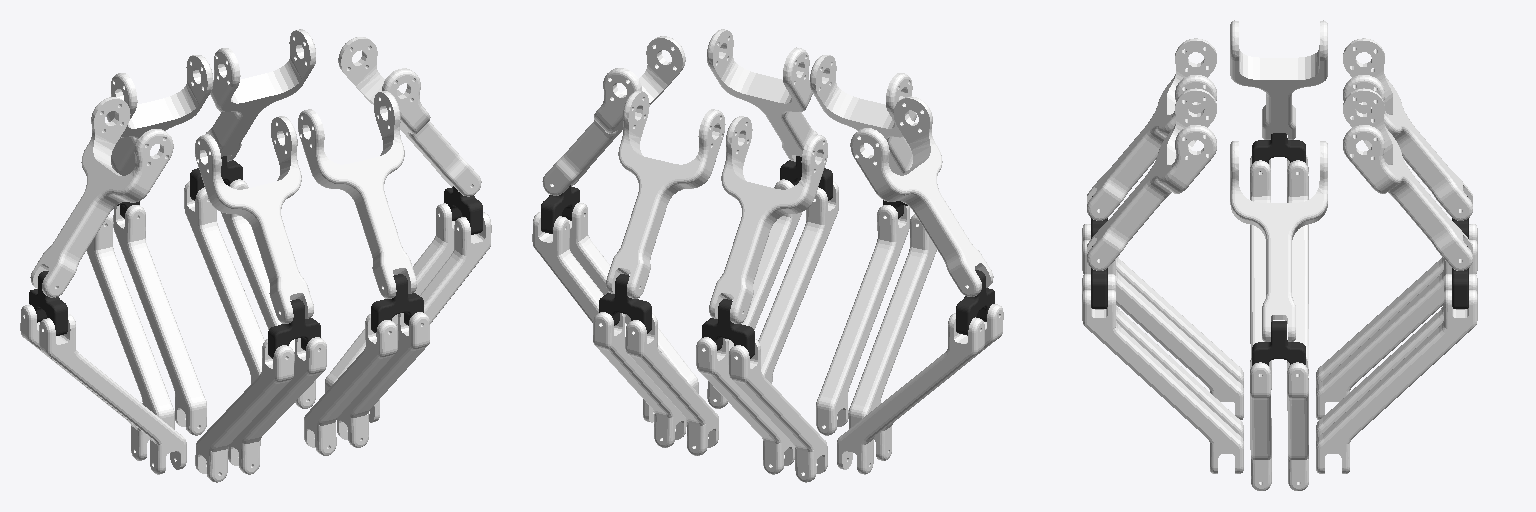
--- Render facts (derived) ---
The picture shows the robot from 3 angles, left to right: view 1: azimuth 30°, elevation 25°; view 2: azimuth 150°, elevation 25°; view 3: azimuth 270°, elevation 25°; orthographic projection.
Robot: bluebody-urdf — 25 links, 24 joints (24 revolute); root link base_link; default pose: all joints at 0.
Visible links, largest first — view 1: Link15, Link11, Link16, Link37, Link13, Link12, Link38, Link310, Link36, Link14, Link311, Link31 (+11 smaller); view 2: Link15, Link13, Link14, Link312, Link11, Link12, Link311, Link39, Link31, Link16, Link38, Link36 (+11 smaller); view 3: Link11, Link13, Link12, Link14, Link16, Link35, Link32, Link15, Link312, Link37, Link39, Link34 (+10 smaller).
Link boxes in pixels (<box>): Link15: <box>30,97,173,297</box>; Link11: <box>298,91,416,298</box>; Link16: <box>195,116,313,323</box>; Link37: <box>113,205,206,435</box>; Link13: <box>206,29,315,161</box>; Link12: <box>338,37,481,196</box>; Link38: <box>87,215,174,429</box>; Link310: <box>39,314,186,474</box>; Link36: <box>184,181,264,383</box>; Link14: <box>106,55,213,175</box>; Link311: <box>195,339,294,482</box>; Link31: <box>304,314,397,455</box>; Link15: <box>850,96,993,296</box>; Link13: <box>606,91,725,298</box>; Link14: <box>709,116,827,323</box>; Link312: <box>816,205,909,435</box>; Link11: <box>707,29,817,161</box>; Link12: <box>542,36,685,195</box>; Link311: <box>848,214,936,428</box>; Link39: <box>837,313,984,474</box>; Link31: <box>758,181,838,383</box>; Link16: <box>810,55,916,175</box>; Link38: <box>729,339,827,482</box>; Link36: <box>625,313,718,455</box>; Link11: <box>1087,88,1216,270</box>; Link13: <box>1343,88,1472,270</box>; Link12: <box>1230,141,1327,341</box>; Link14: <box>1343,38,1472,220</box>; Link16: <box>1087,38,1216,220</box>; Link35: <box>1316,290,1477,473</box>; Link32: <box>1082,290,1243,473</box>; Link15: <box>1230,20,1327,139</box>; Link312: <box>1082,240,1243,419</box>; Link37: <box>1316,240,1477,419</box>; Link39: <box>1287,155,1308,368</box>; Link34: <box>1287,357,1308,490</box>.
Size in the robot's own frame: 0.241 by 0.186 by 0.1849 metres.
24 mesh visuals loaded from 25 distinct referenced files (24 binary STL); not drawn: 1 (reference not matched to a file when rendering).

robot.urdf — bluebody-urdf:
<?xml version="1.0" encoding="utf-8"?>
<!-- This URDF was automatically created by SolidWorks to URDF Exporter! Originally created by Stephen Brawner ([email redacted]) 
     Commit Version: 1.6.0-1-g15f4949  Build Version: 1.6.7594.29634
     For more information, please see http://wiki.ros.org/sw_urdf_exporter -->
<robot
  name="bluebody-urdf">
  <mujoco>
        <compiler 
        meshdir="../meshes/" 
        balanceinertia="true" 
        discardvisual="false" />
  </mujoco>
  <link
    name="base_link">
    <inertial>
      <origin
        xyz="0.000180861268158104 -0.00100669926593326 -0.0180191600373319"
        rpy="0 0 0" />
      <mass
        value="0.222069356338279" />
      <inertia
        ixx="0.00013051726595754"
        ixy="-2.0277869957056E-08"
        ixz="-4.1117912329963E-07"
        iyy="0.000241825516008572"
        iyz="-1.51165378024847E-06"
        izz="0.000330666767704576" />
    </inertial>
    <visual>
      <origin
        xyz="0 0 0"
        rpy="0 0 0" />
      <geometry>
        <mesh
          filename="package://bluebody-urdf/meshes/base_link.STL" />
      </geometry>
      <material
        name="">
        <color
          rgba="0.752941176470588 0.752941176470588 0.752941176470588 1" />
      </material>
    </visual>
    <collision>
      <origin
        xyz="0 0 0"
        rpy="0 0 0" />
      <geometry>
        <mesh
          filename="package://bluebody-urdf/meshes/base_link.STL" />
      </geometry>
    </collision>
  </link>
  <link
    name="Link11">
    <inertial>
      <origin
        xyz="0.035786 0.0035381 -6.6449E-10"
        rpy="0 0 0" />
      <mass
        value="0.016042" />
      <inertia
        ixx="2.4887E-06"
        ixy="-2.6602E-07"
        ixz="1.8107E-12"
        iyy="1.1113E-05"
        iyz="4.3937E-13"
        izz="9.1187E-06" />
    </inertial>
    <visual>
      <origin
        xyz="0 0 0"
        rpy="0 0 0" />
      <geometry>
        <mesh
          filename="package://bluebody-urdf/meshes/Link11.STL" />
      </geometry>
      <material
        name="">
        <color
          rgba="1 1 1 1" />
      </material>
    </visual>
    <collision>
      <origin
        xyz="0 0 0"
        rpy="0 0 0" />
      <geometry>
        <mesh
          filename="package://bluebody-urdf/meshes/Link11.STL" />
      </geometry>
    </collision>
  </link>
  <joint
    name="Joint11"
    type="revolute">
    <origin
      xyz="0.0279 -0.0395 -0.040325"
      rpy="-1.5708 0.91672 -1.5708" />
    <parent
      link="base_link" />
    <child
      link="Link11" />
    <axis
      xyz="0 0 -1" />
    <limit
      lower="-1.57"
      upper="1.57"
      effort="100"
      velocity="100" />
  </joint>
  <link
    name="Link21">
    <inertial>
      <origin
        xyz="0.011917746161099 0 -3.46944695195361E-18"
        rpy="0 0 0" />
      <mass
        value="0.00283590714079142" />
      <inertia
        ixx="1.58449114328455E-07"
        ixy="7.79609012019864E-24"
        ixz="-3.34408676099018E-23"
        iyy="2.69919583243166E-07"
        iyz="-1.64063470125521E-24"
        izz="1.38027104044294E-07" />
    </inertial>
    <visual>
      <origin
        xyz="0 0 0"
        rpy="0 0 0" />
      <geometry>
        <mesh
          filename="package://bluebody-urdf/meshes/Link21.STL" />
      </geometry>
      <material
        name="">
        <color
          rgba="0.250980392156863 0.250980392156863 0.250980392156863 1" />
      </material>
    </visual>
    <collision>
      <origin
        xyz="0 0 0"
        rpy="0 0 0" />
      <geometry>
        <mesh
          filename="package://bluebody-urdf/meshes/Link21.STL" />
      </geometry>
    </collision>
  </link>
  <joint
    name="Joint21"
    type="revolute">
    <origin
      xyz="0.08 0.004 0"
      rpy="0 0 0.65408" />
    <parent
      link="Link11" />
    <child
      link="Link21" />
    <axis
      xyz="0 0 -1" />
    <limit
      lower="-1.57"
      upper="1.57"
      effort="100"
      velocity="100" />
  </joint>
  <link
    name="Link31">
    <inertial>
      <origin
        xyz="0.042 -8.4049715728951E-09 0.0299999999999999"
        rpy="0 0 0" />
      <mass
        value="0.0115483860896403" />
      <inertia
        ixx="5.72454936139628E-06"
        ixy="5.75925533464974E-22"
        ixz="-6.05605579279737E-06"
        iyy="1.2540943263813E-05"
        iyz="3.08589497421942E-22"
        izz="6.99727115654008E-06" />
    </inertial>
    <visual>
      <origin
        xyz="0 0 0"
        rpy="0 0 0" />
      <geometry>
        <mesh
          filename="package://bluebody-urdf/meshes/Link31.STL" />
      </geometry>
      <material
        name="">
        <color
          rgba="1 1 1 1" />
      </material>
    </visual>
    <collision>
      <origin
        xyz="0 0 0"
        rpy="0 0 0" />
      <geometry>
        <mesh
          filename="package://bluebody-urdf/meshes/Link31.STL" />
      </geometry>
    </collision>
  </link>
  <joint
    name="Joint31"
    type="revolute">
    <origin
      xyz="0.02 0 -0.0088"
      rpy="-1.5708 -0.019302 0" />
    <parent
      link="Link21" />
    <child
      link="Link31" />
    <axis
      xyz="0 0 -1" />
    <limit
      lower="-1.57"
      upper="1.57"
      effort="100"
      velocity="100" />
  </joint>
  <link
    name="Link32">
    <inertial>
      <origin
        xyz="0.0419999999999999 -8.40497158677289E-09 0.0299999999999993"
        rpy="0 0 0" />
      <mass
        value="0.0115483860896402" />
      <inertia
        ixx="5.72454936139627E-06"
        ixy="2.52128692548194E-22"
        ixz="-6.05605579279737E-06"
        iyy="1.2540943263813E-05"
        iyz="3.59566728313748E-22"
        izz="6.99727115654007E-06" />
    </inertial>
    <visual>
      <origin
        xyz="0 0 0"
        rpy="0 0 0" />
      <geometry>
        <mesh
          filename="package://bluebody-urdf/meshes/Link32.STL" />
      </geometry>
      <material
        name="">
        <color
          rgba="1 1 1 1" />
      </material>
    </visual>
    <collision>
      <origin
        xyz="0 0 0"
        rpy="0 0 0" />
      <geometry>
        <mesh
          filename="package://bluebody-urdf/meshes/Link32.STL" />
      </geometry>
    </collision>
  </link>
  <joint
    name="Joint32"
    type="revolute">
    <origin
      xyz="0.02 0 0.0088"
      rpy="-1.5708 -0.019302 0" />
    <parent
      link="Link21" />
    <child
      link="Link32" />
    <axis
      xyz="0 0 1" />
    <limit
      lower="-1.57"
      upper="1.57"
      effort="100"
      velocity="100" />
  </joint>
  <link
    name="Link12">
    <inertial>
      <origin
        xyz="0.035786303083496 0.00353814176687808 -6.64347413940978E-10"
        rpy="0 0 0" />
      <mass
        value="0.0160417853284633" />
      <inertia
        ixx="2.48870685848507E-06"
        ixy="-2.66018885577182E-07"
        ixz="1.81077650390522E-12"
        iyy="1.11130612289628E-05"
        iyz="4.39373223528688E-13"
        izz="9.11871591476064E-06" />
    </inertial>
    <visual>
      <origin
        xyz="0 0 0"
        rpy="0 0 0" />
      <geometry>
        <mesh
          filename="package://bluebody-urdf/meshes/Link12.STL" />
      </geometry>
      <material
        name="">
        <color
          rgba="1 1 1 1" />
      </material>
    </visual>
    <collision>
      <origin
        xyz="0 0 0"
        rpy="0 0 0" />
      <geometry>
        <mesh
          filename="package://bluebody-urdf/meshes/Link12.STL" />
      </geometry>
    </collision>
  </link>
  <joint
    name="Joint12"
    type="revolute">
    <origin
      xyz="0.067 -0.0004 -0.040325"
      rpy="-1.5708 0.91639 0" />
    <parent
      link="base_link" />
    <child
      link="Link12" />
    <axis
      xyz="0 0 -1" />
    <limit
      lower="-1.57"
      upper="1.57"
      effort="100"
      velocity="100" />
  </joint>
  <link
    name="Link22">
    <inertial>
      <origin
        xyz="0.011917746161099 1.38777878078145E-17 -4.33680868994202E-19"
        rpy="0 0 0" />
      <mass
        value="0.00283590714079141" />
      <inertia
        ixx="1.58449114328455E-07"
        ixy="7.08597116247072E-26"
        ixz="4.46851576450792E-23"
        iyy="2.69919583243165E-07"
        iyz="-2.071081492976E-24"
        izz="1.38027104044293E-07" />
    </inertial>
    <visual>
      <origin
        xyz="0 0 0"
        rpy="0 0 0" />
      <geometry>
        <mesh
          filename="package://bluebody-urdf/meshes/Link22.STL" />
      </geometry>
      <material
        name="">
        <color
          rgba="0.250980392156863 0.250980392156863 0.250980392156863 1" />
      </material>
    </visual>
    <collision>
      <origin
        xyz="0 0 0"
        rpy="0 0 0" />
      <geometry>
        <mesh
          filename="package://bluebody-urdf/meshes/Link22.STL" />
      </geometry>
    </collision>
  </link>
  <joint
    name="Joint22"
    type="revolute">
    <origin
      xyz="0.08 0.004 0"
      rpy="0 0 0.6544" />
    <parent
      link="Link12" />
    <child
      link="Link22" />
    <axis
      xyz="0 0 1" />
    <limit
      lower="-1.57"
      upper="1.57"
      effort="100"
      velocity="100" />
  </joint>
  <link
    name="Link33">
    <inertial>
      <origin
        xyz="0.042 -8.40497157636455E-09 0.0299999999999998"
        rpy="0 0 0" />
      <mass
        value="0.0115483860896403" />
      <inertia
        ixx="5.72454936139628E-06"
        ixy="-8.33798057453452E-22"
        ixz="-6.05605579279738E-06"
        iyy="1.2540943263813E-05"
        iyz="-3.45451170515669E-23"
        izz="6.99727115654008E-06" />
    </inertial>
    <visual>
      <origin
        xyz="0 0 0"
        rpy="0 0 0" />
      <geometry>
        <mesh
          filename="package://bluebody-urdf/meshes/Link33.STL" />
      </geometry>
      <material
        name="">
        <color
          rgba="1 1 1 1" />
      </material>
    </visual>
    <collision>
      <origin
        xyz="0 0 0"
        rpy="0 0 0" />
      <geometry>
        <mesh
          filename="package://bluebody-urdf/meshes/Link33.STL" />
      </geometry>
    </collision>
  </link>
  <joint
    name="Joint33"
    type="revolute">
    <origin
      xyz="0.02 0 -0.0088"
      rpy="-1.5708 -0.0047619 0" />
    <parent
      link="Link22" />
    <child
      link="Link33" />
    <axis
      xyz="0 0 -1" />
    <limit
      lower="-1.57"
      upper="1.57"
      effort="100"
      velocity="100" />
  </joint>
  <link
    name="Link34">
    <inertial>
      <origin
        xyz="0.0419999999999999 -8.404971579834E-09 0.0299999999999993"
        rpy="0 0 0" />
      <mass
        value="0.0115483860896402" />
      <inertia
        ixx="5.72454936139627E-06"
        ixy="1.52201232709757E-22"
        ixz="-6.05605579279736E-06"
        iyy="1.2540943263813E-05"
        iyz="1.59464485173239E-22"
        izz="6.99727115654007E-06" />
    </inertial>
    <visual>
      <origin
        xyz="0 0 0"
        rpy="0 0 0" />
      <geometry>
        <mesh
          filename="package://bluebody-urdf/meshes/Link34.STL" />
      </geometry>
      <material
        name="">
        <color
          rgba="1 1 1 1" />
      </material>
    </visual>
    <collision>
      <origin
        xyz="0 0 0"
        rpy="0 0 0" />
      <geometry>
        <mesh
          filename="package://bluebody-urdf/meshes/Link34.STL" />
      </geometry>
    </collision>
  </link>
  <joint
    name="Joint34"
    type="revolute">
    <origin
      xyz="0.02 0 0.0088"
      rpy="-1.5708 -0.0047619 0" />
    <parent
      link="Link22" />
    <child
      link="Link34" />
    <axis
      xyz="0 0 1" />
    <limit
      lower="-1.57"
      upper="1.57"
      effort="100"
      velocity="100" />
  </joint>
  <link
    name="Link13">
    <inertial>
      <origin
        xyz="0.0357863030831948 0.00353814176684442 -6.64487225660038E-10"
        rpy="0 0 0" />
      <mass
        value="0.0160417853287394" />
      <inertia
        ixx="2.4887068585687E-06"
        ixy="-2.66018885598105E-07"
        ixz="1.81074686738213E-12"
        iyy="1.11130612291245E-05"
        iyz="4.39370755249739E-13"
        izz="9.11871591485151E-06" />
    </inertial>
    <visual>
      <origin
        xyz="0 0 0"
        rpy="0 0 0" />
      <geometry>
        <mesh
          filename="package://bluebody-urdf/meshes/Link13.STL" />
      </geometry>
      <material
        name="">
        <color
          rgba="1 1 1 1" />
      </material>
    </visual>
    <collision>
      <origin
        xyz="0 0 0"
        rpy="0 0 0" />
      <geometry>
        <mesh
          filename="package://bluebody-urdf/meshes/Link13.STL" />
      </geometry>
    </collision>
  </link>
  <joint
    name="Joint13"
    type="revolute">
    <origin
      xyz="0.0279 0.0395 -0.040325"
      rpy="-1.5708 0.91672 1.5708" />
    <parent
      link="base_link" />
    <child
      link="Link13" />
    <axis
      xyz="0 0 -1" />
    <limit
      lower="-1.57"
      upper="1.57"
      effort="100"
      velocity="100" />
  </joint>
  <link
    name="Link23">
    <inertial>
      <origin
        xyz="0.011917746161099 0 3.46944695195361E-18"
        rpy="0 0 0" />
      <mass
        value="0.00283590714079142" />
      <inertia
        ixx="1.58449114328455E-07"
        ixy="1.42191571546108E-23"
        ixz="-6.69206265273477E-24"
        iyy="2.69919583243166E-07"
        iyz="-1.13566110630696E-23"
        izz="1.38027104044294E-07" />
    </inertial>
    <visual>
      <origin
        xyz="0 0 0"
        rpy="0 0 0" />
      <geometry>
        <mesh
          filename="package://bluebody-urdf/meshes/Link23.STL" />
      </geometry>
      <material
        name="">
        <color
          rgba="0.250980392156863 0.250980392156863 0.250980392156863 1" />
      </material>
    </visual>
    <collision>
      <origin
        xyz="0 0 0"
        rpy="0 0 0" />
      <geometry>
        <mesh
          filename="package://bluebody-urdf/meshes/Link23.STL" />
      </geometry>
    </collision>
  </link>
  <joint
    name="Joint23"
    type="revolute">
    <origin
      xyz="0.08 0.004 0"
      rpy="0 0 0.65408" />
    <parent
      link="Link13" />
    <child
      link="Link23" />
    <axis
      xyz="0 0 1" />
    <limit
      lower="-1.57"
      upper="1.57"
      effort="100"
      velocity="100" />
  </joint>
  <link
    name="Link35">
    <inertial>
      <origin
        xyz="0.0419999999999999 -8.40497158677289E-09 0.0299999999999993"
        rpy="0 0 0" />
      <mass
        value="0.0115483860896402" />
      <inertia
        ixx="5.72454936139627E-06"
        ixy="9.26119959980619E-23"
        ixz="-6.05605579279737E-06"
        iyy="1.2540943263813E-05"
        iyz="-2.03552667444994E-22"
        izz="6.99727115654008E-06" />
    </inertial>
    <visual>
      <origin
        xyz="0 0 0"
        rpy="0 0 0" />
      <geometry>
        <mesh
          filename="package://bluebody-urdf/meshes/Link35.STL" />
      </geometry>
      <material
        name="">
        <color
          rgba="1 1 1 1" />
      </material>
    </visual>
    <collision>
      <origin
        xyz="0 0 0"
        rpy="0 0 0" />
      <geometry>
        <mesh
          filename="package://bluebody-urdf/meshes/Link35.STL" />
      </geometry>
    </collision>
  </link>
  <joint
    name="Link35"
    type="revolute">
    <origin
      xyz="0.02 0 -0.0088"
      rpy="-1.5708 0.019302 0" />
    <parent
      link="Link23" />
    <child
      link="Link35" />
    <axis
      xyz="0 0 1" />
    <limit
      lower="-1.57"
      upper="1.57"
      effort="100"
      velocity="100" />
  </joint>
  <link
    name="Link36">
    <inertial>
      <origin
        xyz="0.0419999999999999 -8.40497157636455E-09 0.0299999999999993"
        rpy="0 0 0" />
      <mass
        value="0.0115483860896403" />
      <inertia
        ixx="5.72454936139628E-06"
        ixy="-3.40026018438698E-22"
        ixz="-6.05605579279737E-06"
        iyy="1.2540943263813E-05"
        iyz="-2.96392015291114E-22"
        izz="6.99727115654009E-06" />
    </inertial>
    <visual>
      <origin
        xyz="0 0 0"
        rpy="0 0 0" />
      <geometry>
        <mesh
          filename="package://bluebody-urdf/meshes/Link36.STL" />
      </geometry>
      <material
        name="">
        <color
          rgba="1 1 1 1" />
      </material>
    </visual>
    <collision>
      <origin
        xyz="0 0 0"
        rpy="0 0 0" />
      <geometry>
        <mesh
          filename="package://bluebody-urdf/meshes/Link36.STL" />
      </geometry>
    </collision>
  </link>
  <joint
    name="Joint36"
    type="revolute">
    <origin
      xyz="0.02 0 0.0088"
      rpy="-1.5708 0.019302 0" />
    <parent
      link="Link23" />
    <child
      link="Link36" />
    <axis
      xyz="0 0 1" />
    <limit
      lower="-1.57"
      upper="1.57"
      effort="100"
      velocity="100" />
  </joint>
  <link
    name="Link14">
    <inertial>
      <origin
        xyz="0.0357863030831948 0.00353814176684443 -6.64487222190591E-10"
        rpy="0 0 0" />
      <mass
        value="0.0160417853287394" />
      <inertia
        ixx="2.4887068585687E-06"
        ixy="-2.66018885598104E-07"
        ixz="1.81074686703606E-12"
        iyy="1.11130612291245E-05"
        iyz="4.39370754896383E-13"
        izz="9.11871591485151E-06" />
    </inertial>
    <visual>
      <origin
        xyz="0 0 0"
        rpy="0 0 0" />
      <geometry>
        <mesh
          filename="package://bluebody-urdf/meshes/Link14.STL" />
      </geometry>
      <material
        name="">
        <color
          rgba="1 1 1 1" />
      </material>
    </visual>
    <collision>
      <origin
        xyz="0 0 0"
        rpy="0 0 0" />
      <geometry>
        <mesh
          filename="package://bluebody-urdf/meshes/Link14.STL" />
      </geometry>
    </collision>
  </link>
  <joint
    name="Joint14"
    type="revolute">
    <origin
      xyz="-0.0279 0.0395 -0.040325"
      rpy="-1.5708 0.91672 1.5708" />
    <parent
      link="base_link" />
    <child
      link="Link14" />
    <axis
      xyz="0 0 -1" />
    <limit
      lower="-1.57"
      upper="1.57"
      effort="100"
      velocity="100" />
  </joint>
  <link
    name="Link24">
    <inertial>
      <origin
        xyz="0.011917746161099 0 0"
        rpy="0 0 0" />
      <mass
        value="0.00283590714079142" />
      <inertia
        ixx="1.58449114328456E-07"
        ixy="-1.31926562962186E-23"
        ixz="-1.23614766527045E-23"
        iyy="2.69919583243166E-07"
        iyz="8.38669098884647E-24"
        izz="1.38027104044294E-07" />
    </inertial>
    <visual>
      <origin
        xyz="0 0 0"
        rpy="0 0 0" />
      <geometry>
        <mesh
          filename="package://bluebody-urdf/meshes/Link24.STL" />
      </geometry>
      <material
        name="">
        <color
          rgba="0.250980392156863 0.250980392156863 0.250980392156863 1" />
      </material>
    </visual>
    <collision>
      <origin
        xyz="0 0 0"
        rpy="0 0 0" />
      <geometry>
        <mesh
          filename="package://bluebody-urdf/meshes/Link24.STL" />
      </geometry>
    </collision>
  </link>
  <joint
    name="Joint24"
    type="revolute">
    <origin
      xyz="0.08 0.004 0"
      rpy="0 0 0.65408" />
    <parent
      link="Link14" />
    <child
      link="Link24" />
    <axis
      xyz="0 0 1" />
    <limit
      lower="-1.57"
      upper="1.57"
      effort="100"
      velocity="100" />
  </joint>
  <link
    name="Link37">
    <inertial>
      <origin
        xyz="0.0420000000000003 -8.404970205933E-09 0.0299999999999998"
        rpy="0 0 0" />
      <mass
        value="0.0115483860896402" />
      <inertia
        ixx="5.72454936139627E-06"
        ixy="1.55036291089739E-22"
        ixz="-6.05605579279736E-06"
        iyy="1.2540943263813E-05"
        iyz="2.29827541114887E-22"
        izz="6.99727115654007E-06" />
    </inertial>
    <visual>
      <origin
        xyz="0 0 0"
        rpy="0 0 0" />
      <geometry>
        <mesh
          filename="package://bluebody-urdf/meshes/Link37.STL" />
      </geometry>
      <material
        name="">
        <color
          rgba="1 1 1 1" />
      </material>
    </visual>
    <collision>
      <origin
        xyz="0 0 0"
        rpy="0 0 0" />
      <geometry>
        <mesh
          filename="package://bluebody-urdf/meshes/Link37.STL" />
      </geometry>
    </collision>
  </link>
  <joint
    name="Joint37"
    type="revolute">
    <origin
      xyz="0.02 0 -0.0088"
      rpy="-1.5708 -0.019302 0" />
    <parent
      link="Link24" />
    <child
      link="Link37" />
    <axis
      xyz="0 0 -1" />
    <limit
      lower="-1.57"
      upper="1.57"
      effort="100"
      velocity="100" />
  </joint>
  <link
    name="Link38">
    <inertial>
      <origin
        xyz="0.0420000000000001 -8.404971579834E-09 0.0299999999999998"
        rpy="0 0 0" />
      <mass
        value="0.0115483860896403" />
      <inertia
        ixx="5.72454936139627E-06"
        ixy="-1.17422381030008E-23"
        ixz="-6.05605579279737E-06"
        iyy="1.2540943263813E-05"
        iyz="-1.81192056457179E-22"
        izz="6.99727115654008E-06" />
    </inertial>
    <visual>
      <origin
        xyz="0 0 0"
        rpy="0 0 0" />
      <geometry>
        <mesh
          filename="package://bluebody-urdf/meshes/Link38.STL" />
      </geometry>
      <material
        name="">
        <color
          rgba="1 1 1 1" />
      </material>
    </visual>
    <collision>
      <origin
        xyz="0 0 0"
        rpy="0 0 0" />
      <geometry>
        <mesh
          filename="package://bluebody-urdf/meshes/Link38.STL" />
      </geometry>
    </collision>
  </link>
  <joint
    name="Joint38"
    type="revolute">
    <origin
      xyz="0.02 0 0.0088"
      rpy="-1.5708 -0.019302 0" />
    <parent
      link="Link24" />
    <child
      link="Link38" />
    <axis
      xyz="0 0 -1" />
    <limit
      lower="-1.57"
      upper="1.57"
      effort="100"
      velocity="100" />
  </joint>
  <link
    name="Link15">
    <inertial>
      <origin
        xyz="0.035786303083496 0.00353814176687808 -6.64347419090938E-10"
        rpy="0 0 0" />
      <mass
        value="0.0160417853284633" />
      <inertia
        ixx="2.48870685848507E-06"
        ixy="-2.66018885577185E-07"
        ixz="1.81077650076994E-12"
        iyy="1.11130612289628E-05"
        iyz="4.39373224489448E-13"
        izz="9.11871591476064E-06" />
    </inertial>
    <visual>
      <origin
        xyz="0 0 0"
        rpy="0 0 0" />
      <geometry>
        <mesh
          filename="package://bluebody-urdf/meshes/Link15.STL" />
      </geometry>
      <material
        name="">
        <color
          rgba="1 1 1 1" />
      </material>
    </visual>
    <collision>
      <origin
        xyz="0 0 0"
        rpy="0 0 0" />
      <geometry>
        <mesh
          filename="package://bluebody-urdf/meshes/Link15.STL" />
      </geometry>
    </collision>
  </link>
  <joint
    name="Joint15"
    type="revolute">
    <origin
      xyz="-0.067 -0.0004 -0.040325"
      rpy="-1.5708 0.91639 -3.1416" />
    <parent
      link="base_link" />
    <child
      link="Link15" />
    <axis
      xyz="0 0 -1" />
    <limit
      lower="-1.57"
      upper="1.57"
      effort="100"
      velocity="100" />
  </joint>
  <link
    name="Link25">
    <inertial>
      <origin
        xyz="0.011917746161099 1.38777878078145E-17 4.33680868994202E-19"
        rpy="0 0 0" />
      <mass
        value="0.00283590714079141" />
      <inertia
        ixx="1.58449114328455E-07"
        ixy="-1.79945787210557E-24"
        ixz="1.89993972483815E-23"
        iyy="2.69919583243165E-07"
        iyz="-4.66941610459328E-24"
        izz="1.38027104044293E-07" />
    </inertial>
    <visual>
      <origin
        xyz="0 0 0"
        rpy="0 0 0" />
      <geometry>
        <mesh
          filename="package://bluebody-urdf/meshes/Link25.STL" />
      </geometry>
      <material
        name="">
        <color
          rgba="0.250980392156863 0.250980392156863 0.250980392156863 1" />
      </material>
    </visual>
    <collision>
      <origin
        xyz="0 0 0"
        rpy="0 0 0" />
      <geometry>
        <mesh
          filename="package://bluebody-urdf/meshes/Link25.STL" />
      </geometry>
    </collision>
  </link>
  <joint
    name="Joint25"
    type="revolute">
    <origin
      xyz="0.08 0.004 0"
      rpy="0 0 0.6544" />
    <parent
      link="Link15" />
    <child
      link="Link25" />
    <axis
      xyz="0 0 1" />
    <limit
      lower="-1.57"
      upper="1.57"
      effort="100"
      velocity="100" />
  </joint>
  <link
    name="Link39">
    <inertial>
      <origin
        xyz="0.042 -8.40497157809927E-09 0.0299999999999999"
        rpy="0 0 0" />
      <mass
        value="0.0115483860896402" />
      <inertia
        ixx="5.72454936139627E-06"
        ixy="7.94093388050907E-23"
        ixz="-6.05605579279737E-06"
        iyy="1.2540943263813E-05"
        iyz="-1.07520445653377E-22"
        izz="6.99727115654007E-06" />
    </inertial>
    <visual>
      <origin
        xyz="0 0 0"
        rpy="0 0 0" />
      <geometry>
        <mesh
          filename="package://bluebody-urdf/meshes/Link39.STL" />
      </geometry>
      <material
        name="">
        <color
          rgba="1 1 1 1" />
      </material>
    </visual>
    <collision>
      <origin
        xyz="0 0 0"
        rpy="0 0 0" />
      <geometry>
        <mesh
          filename="package://bluebody-urdf/meshes/Link39.STL" />
      </geometry>
    </collision>
  </link>
  <joint
    name="Joint39"
    type="revolute">
    <origin
      xyz="0.02 0 -0.0088"
      rpy="-1.5708 0.0047619 0" />
    <parent
      link="Link25" />
    <child
      link="Link39" />
    <axis
      xyz="0 0 -1" />
    <limit
      lower="-1.57"
      upper="1.57"
      effort="100"
      velocity="100" />
  </joint>
  <link
    name="Link310">
    <inertial>
      <origin
        xyz="0.042 -8.40497157809927E-09 0.0299999999999999"
        rpy="0 0 0" />
      <mass
        value="0.0115483860896402" />
      <inertia
        ixx="5.72454936139627E-06"
        ixy="1.2573145310806E-22"
        ixz="-6.05605579279737E-06"
        iyy="1.2540943263813E-05"
        iyz="2.24951066821714E-23"
        izz="6.99727115654007E-06" />
    </inertial>
    <visual>
      <origin
        xyz="0 0 0"
        rpy="0 0 0" />
      <geometry>
        <mesh
          filename="package://bluebody-urdf/meshes/Link310.STL" />
      </geometry>
      <material
        name="">
        <color
          rgba="1 1 1 1" />
      </material>
    </visual>
    <collision>
      <origin
        xyz="0 0 0"
        rpy="0 0 0" />
      <geometry>
        <mesh
          filename="package://bluebody-urdf/meshes/Link310.STL" />
      </geometry>
    </collision>
  </link>
  <joint
    name="Joint310"
    type="revolute">
    <origin
      xyz="0.02 0 0.0088"
      rpy="-1.5708 0.0047619 0" />
    <parent
      link="Link25" />
    <child
      link="Link310" />
    <axis
      xyz="0 0 -1" />
    <limit
      lower="-1.57"
      upper="1.57"
      effort="100"
      velocity="100" />
  </joint>
  <link
    name="Link16">
    <inertial>
      <origin
        xyz="0.0357863030831948 0.0035381417668444 -6.64487222190591E-10"
        rpy="0 0 0" />
      <mass
        value="0.0160417853287394" />
      <inertia
        ixx="2.4887068585687E-06"
        ixy="-2.66018885598104E-07"
        ixz="1.81074686651407E-12"
        iyy="1.11130612291245E-05"
        iyz="4.39370755051641E-13"
        izz="9.1187159148515E-06" />
    </inertial>
    <visual>
      <origin
        xyz="0 0 0"
        rpy="0 0 0" />
      <geometry>
        <mesh
          filename="package://bluebody-urdf/meshes/Link16.STL" />
      </geometry>
      <material
        name="">
        <color
          rgba="1 1 1 1" />
      </material>
    </visual>
    <collision>
      <origin
        xyz="0 0 0"
        rpy="0 0 0" />
      <geometry>
        <mesh
          filename="package://bluebody-urdf/meshes/Link16.STL" />
      </geometry>
    </collision>
  </link>
  <joint
    name="Joint16"
    type="revolute">
    <origin
      xyz="-0.0279 -0.0395 -0.040325"
      rpy="-1.5708 0.91672 -1.5708" />
    <parent
      link="base_link" />
    <child
      link="Link16" />
    <axis
      xyz="0 0 -1" />
    <limit
      lower="-1.57"
      upper="1.57"
      effort="100"
      velocity="100" />
  </joint>
  <link
    name="Link26">
    <inertial>
      <origin
        xyz="0.011917746161099 0 3.46944695195361E-18"
        rpy="0 0 0" />
      <mass
        value="0.00283590714079142" />
      <inertia
        ixx="1.58449114328455E-07"
        ixy="-6.24868933184285E-24"
        ixz="-2.56983535796572E-24"
        iyy="2.69919583243166E-07"
        iyz="1.82354616181052E-23"
        izz="1.38027104044294E-07" />
    </inertial>
    <visual>
      <origin
        xyz="0 0 0"
        rpy="0 0 0" />
      <geometry>
        <mesh
          filename="package://bluebody-urdf/meshes/Link26.STL" />
      </geometry>
      <material
        name="">
        <color
          rgba="0.250980392156863 0.250980392156863 0.250980392156863 1" />
      </material>
    </visual>
    <collision>
      <origin
        xyz="0 0 0"
        rpy="0 0 0" />
      <geometry>
        <mesh
          filename="package://bluebody-urdf/meshes/Link26.STL" />
      </geometry>
    </collision>
  </link>
  <joint
    name="Joint26"
    type="revolute">
    <origin
      xyz="0.08 0.004 0"
      rpy="0 0 0.65408" />
    <parent
      link="Link16" />
    <child
      link="Link26" />
    <axis
      xyz="0 0 -1" />
    <limit
      lower="-1.57"
      upper="1.57"
      effort="100"
      velocity="100" />
  </joint>
  <link
    name="Link311">
    <inertial>
      <origin
        xyz="0.042 -8.404971579834E-09 0.0299999999999999"
        rpy="0 0 0" />
      <mass
        value="0.0115483860896402" />
      <inertia
        ixx="5.72454936139627E-06"
        ixy="-2.16083694673982E-22"
        ixz="-6.05605579279736E-06"
        iyy="1.2540943263813E-05"
        iyz="-4.82937209157512E-24"
        izz="6.99727115654007E-06" />
    </inertial>
    <visual>
      <origin
        xyz="0 0 0"
        rpy="0 0 0" />
      <geometry>
        <mesh
          filename="package://bluebody-urdf/meshes/Link311.STL" />
      </geometry>
      <material
        name="">
        <color
          rgba="1 1 1 1" />
      </material>
    </visual>
    <collision>
      <origin
        xyz="0 0 0"
        rpy="0 0 0" />
      <geometry>
        <mesh
          filename="package://bluebody-urdf/meshes/Link311.STL" />
      </geometry>
    </collision>
  </link>
  <joint
    name="Joint311"
    type="revolute">
    <origin
      xyz="0.02 0 -0.0088"
      rpy="-1.5708 0.019302 0" />
    <parent
      link="Link26" />
    <child
      link="Link311" />
    <axis
      xyz="0 0 -1" />
    <limit
      lower="-1.57"
      upper="1.57"
      effort="100"
      velocity="100" />
  </joint>
  <link
    name="Link312">
    <inertial>
      <origin
        xyz="0.042 -8.40497160758957E-09 0.0299999999999999"
        rpy="0 0 0" />
      <mass
        value="0.0115483860896403" />
      <inertia
        ixx="5.72454936139627E-06"
        ixy="4.34439916399174E-21"
        ixz="-6.05605579279737E-06"
        iyy="1.2540943263813E-05"
        iyz="3.79121230959321E-21"
        izz="6.99727115654009E-06" />
    </inertial>
    <visual>
      <origin
        xyz="0 0 0"
        rpy="0 0 0" />
      <geometry>
        <mesh
          filename="package://bluebody-urdf/meshes/Link312.STL" />
      </geometry>
      <material
        name="">
        <color
          rgba="1 1 1 1" />
      </material>
    </visual>
    <collision>
      <origin
        xyz="0 0 0"
        rpy="0 0 0" />
      <geometry>
        <mesh
          filename="package://bluebody-urdf/meshes/Link312.STL" />
      </geometry>
    </collision>
  </link>
  <joint
    name="Joint312"
    type="revolute">
    <origin
      xyz="0.02 0 0.0088"
      rpy="-1.5708 0.019302 0" />
    <parent
      link="Link26" />
    <child
      link="Link312" />
    <axis
      xyz="0 0 -1" />
    <limit
      lower="-1.57"
      upper="1.57"
      effort="100"
      velocity="100" />
  </joint>
</robot>
